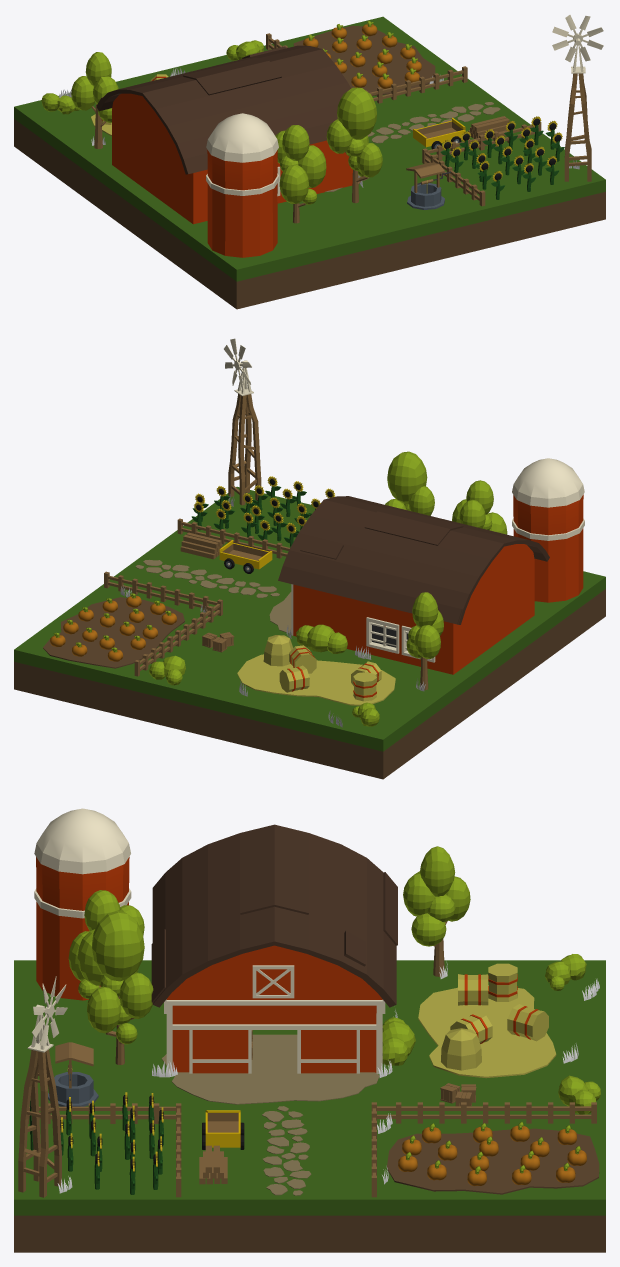
Rendered from Farm_scene.fbx.
3 renders of one model, top to bottom at view 1: azimuth 30°, elevation 25°; view 2: azimuth 150°, elevation 25°; view 3: azimuth 270°, elevation 25°, orthographic. The views are drawn at different scales.
Parts seen in each view (by area): view 1: Ground, Cube.002, Tower, Cube.001, Tree_01, Plane.002, Tree_01.001, wind_mill, Tree_02, Cube.003, Cylinder.007, Cylinder.008 (+3 smaller); view 2: Ground, Cube.002, Cube.001, Tower, Plane.002, Plane, wind_mill, Cylinder.006, Tree_01, Tree_02, Cube.003, Tree_01.001 (+9 smaller); view 3: Ground, Cube.002, Cube.001, Tower, Plane.002, Plane.001, Tree_01, Plane, wind_mill, Cube.007, Tree_02, Cylinder.006 (+16 smaller).
Boxes of the visible parts, x1,y1,x2,y2 form: Ground: [14, 16, 605, 309]; Cube.002: [97, 45, 351, 174]; Tower: [206, 113, 278, 257]; Cube.001: [112, 93, 352, 224]; Tree_01: [326, 87, 382, 203]; Plane.002: [293, 25, 435, 95]; Tree_01.001: [275, 125, 326, 223]; wind_mill: [552, 15, 603, 181]; Tree_02: [71, 52, 118, 148]; Cube.003: [183, 57, 281, 95]; Cylinder.007: [422, 122, 541, 206]; Cylinder.008: [406, 162, 450, 209]; Ground: [14, 486, 605, 779]; Cube.002: [278, 496, 549, 624]; Cube.001: [291, 544, 534, 674]; Tower: [512, 458, 584, 602]; Plane.002: [43, 597, 184, 668]; Plane: [237, 654, 395, 705]; wind_mill: [224, 338, 261, 505]; Cylinder.006: [104, 571, 222, 676]; Tree_01: [385, 451, 434, 515]; Tree_02: [406, 592, 443, 690]; Cube.003: [364, 508, 463, 545]; Tree_01.001: [452, 480, 507, 534]; Ground: [14, 960, 605, 1252]; Cube.002: [152, 824, 396, 1007]; Cube.001: [164, 945, 385, 1074]; Tower: [34, 808, 131, 1000]; Plane.002: [387, 1128, 599, 1194]; Plane.001: [161, 1034, 379, 1104]; Tree_01: [87, 911, 153, 1064]; Plane: [418, 985, 556, 1078]; wind_mill: [18, 976, 67, 1197]; Cube.007: [189, 1030, 359, 1073]; Tree_02: [403, 846, 470, 976]; Cylinder.006: [371, 1102, 596, 1197].
Bounding box in the file's own units: 32.75 × 16.54 × 33.72.
